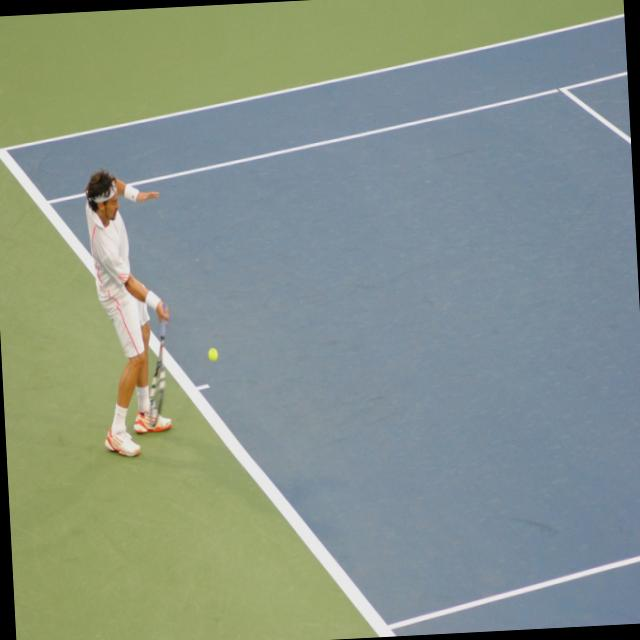Tennis Ball: (208, 346, 218, 361), (208, 346, 218, 359)
